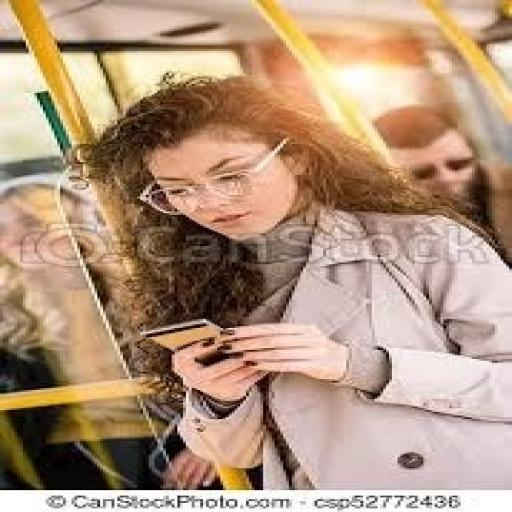texting: (77, 73, 509, 490)
